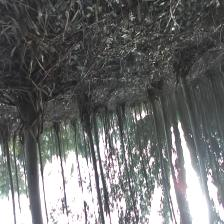trunk: (177, 67, 210, 192), (21, 99, 44, 223), (156, 89, 176, 179), (81, 110, 101, 200), (2, 138, 16, 218), (53, 124, 67, 201)
